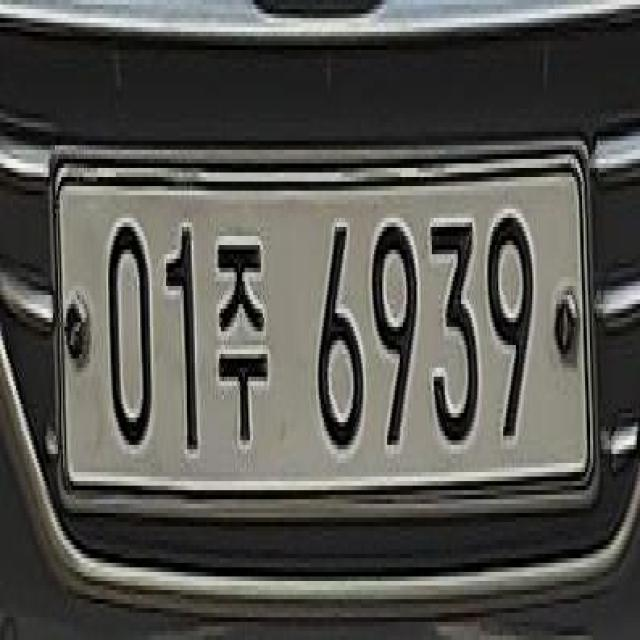illegal_plate: (54, 140, 602, 530)
